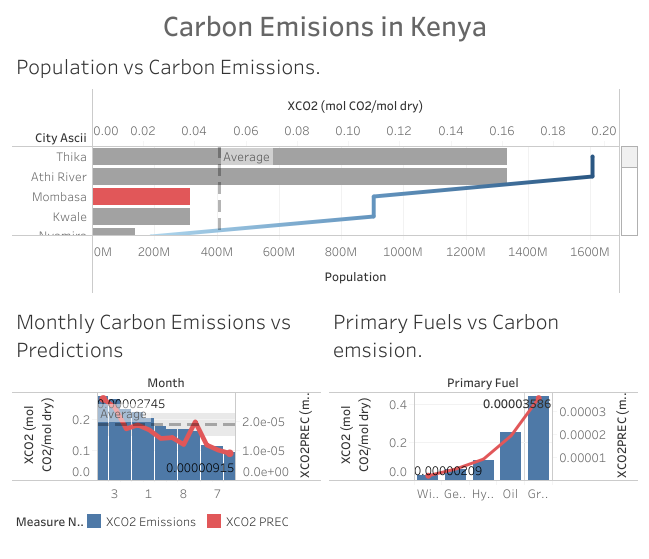

The dashboard page shown, as its layout file describes it:
{"tool":"tableau","page":{"name":"Carbon Emissions","canvas":[650,860],"ordinal":0},"visuals":[{"type":"text","box":[8,8,634,53]},{"type":"worksheet","title":"Population vs Carbon Emissions.","mark":"Automatic","rows":["city_ascii"],"cols":["population","XCO2 (mol CO2/mol dry)"],"box":[8,61,634,395.5]},{"type":"worksheet","title":"Monthly Carbon Emissions vs Predictions ","mark":"Bar","rows":["XCO2 (mol CO2/mol dry)","XCO2PREC (mol CO2/mol dry)"],"cols":["Month"],"box":[8,456.5,317,325.2]},{"type":"worksheet","title":"Primary Fuels vs Carbon emsision.","mark":"Automatic","rows":["XCO2 (mol CO2/mol dry)","XCO2PREC (mol CO2/mol dry)"],"cols":["primary_fuel"],"box":[325,456.5,317,325.2]},{"type":"legend","title":"Monthly Carbon Emissions vs Predictions ","param":"[federated.0migdun033u76r1g43bwb1jp1udz].[:Measure Names]","box":[8,781.7,634,70.3]}]}

Visuals, with their boxes on the page's 650x860 design canvas (x1, y1, x2, y2). These are canvas units, not pixel positions in the 649x559 screenshot, which may show the page scaled, cropped or inside an application window:
text: (8, 8, 642, 61)
"Population vs Carbon Emissions." worksheet: (8, 61, 642, 456)
"Monthly Carbon Emissions vs Predictions " worksheet (Bar marks): (8, 456, 325, 782)
"Primary Fuels vs Carbon emsision." worksheet: (325, 456, 642, 782)
"Monthly Carbon Emissions vs Predictions " legend: (8, 782, 642, 852)
